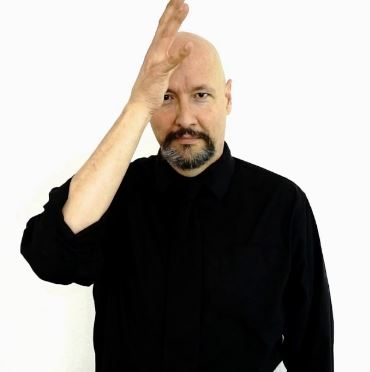dad: (123, 1, 227, 117)
